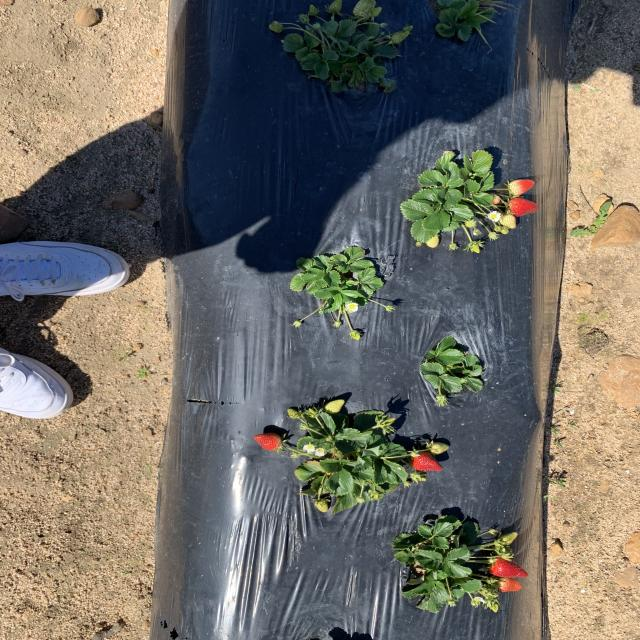unripe: (488, 556, 529, 578), (409, 452, 444, 472), (506, 198, 540, 216), (254, 432, 283, 451), (508, 178, 534, 195), (500, 579, 522, 592)
